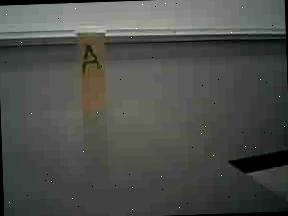Bottle A: (72, 20, 120, 122)
